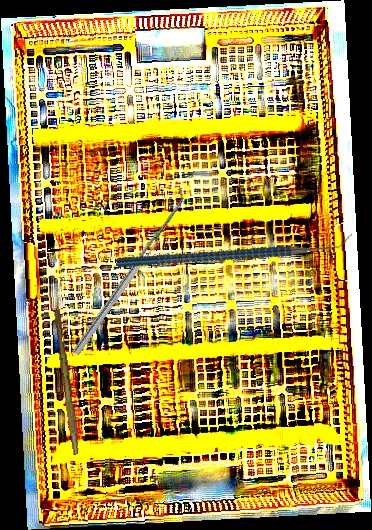Chopper: (115, 176, 353, 323)
Scalpel Handle: (50, 309, 84, 455)
Spatula Surgical: (66, 186, 191, 356)
